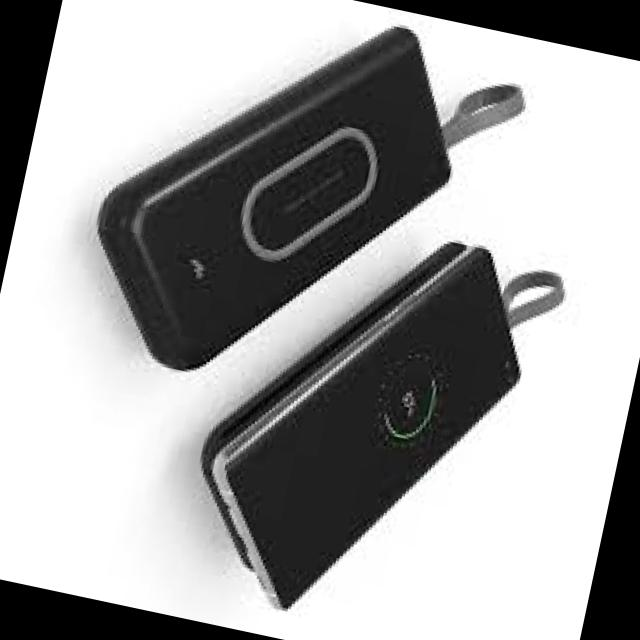portable-charger: (61, 0, 484, 425)
